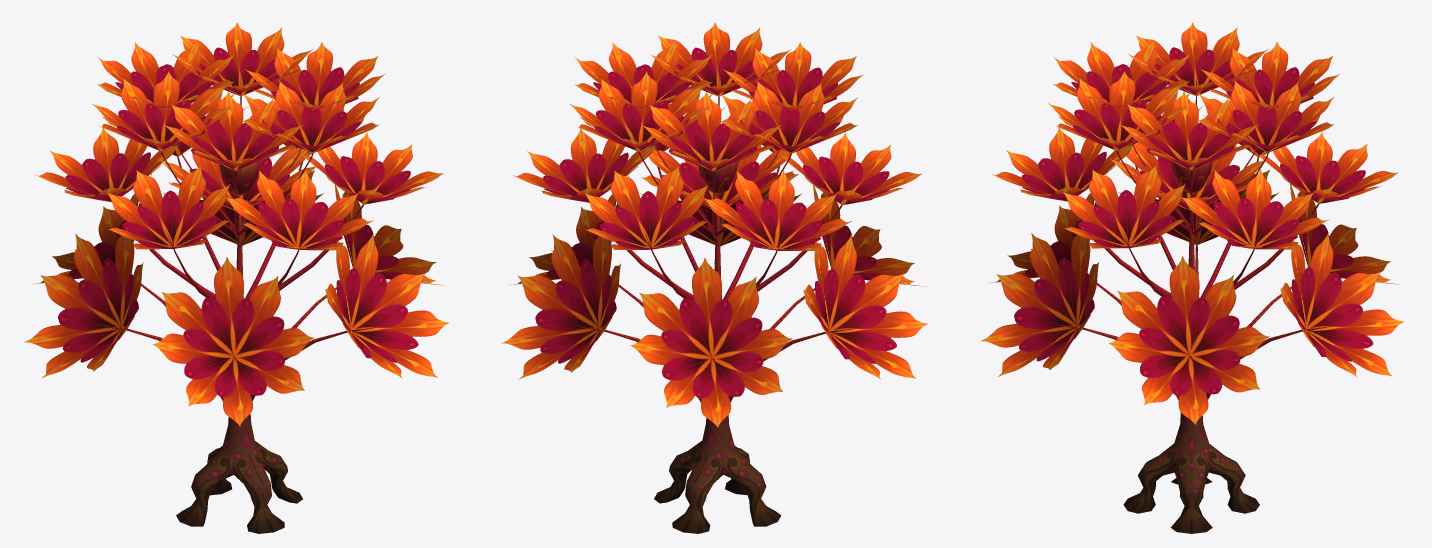
File: Red_Tree_02a.FBX
3 renders of one model, left to right at view 1: azimuth 30°, elevation 25°; view 2: azimuth 150°, elevation 25°; view 3: azimuth 270°, elevation 25°, orthographic.
Visible parts, largest first — view 1: Red_Tree_02a; view 2: Red_Tree_02a; view 3: Red_Tree_02a.
Part boxes in pixels (bbox=[...]): Red_Tree_02a: bbox=[24, 22, 449, 533]; Red_Tree_02a: bbox=[501, 22, 927, 533]; Red_Tree_02a: bbox=[980, 22, 1403, 533].
Size of the model in its own units: 334 by 322 by 312.
